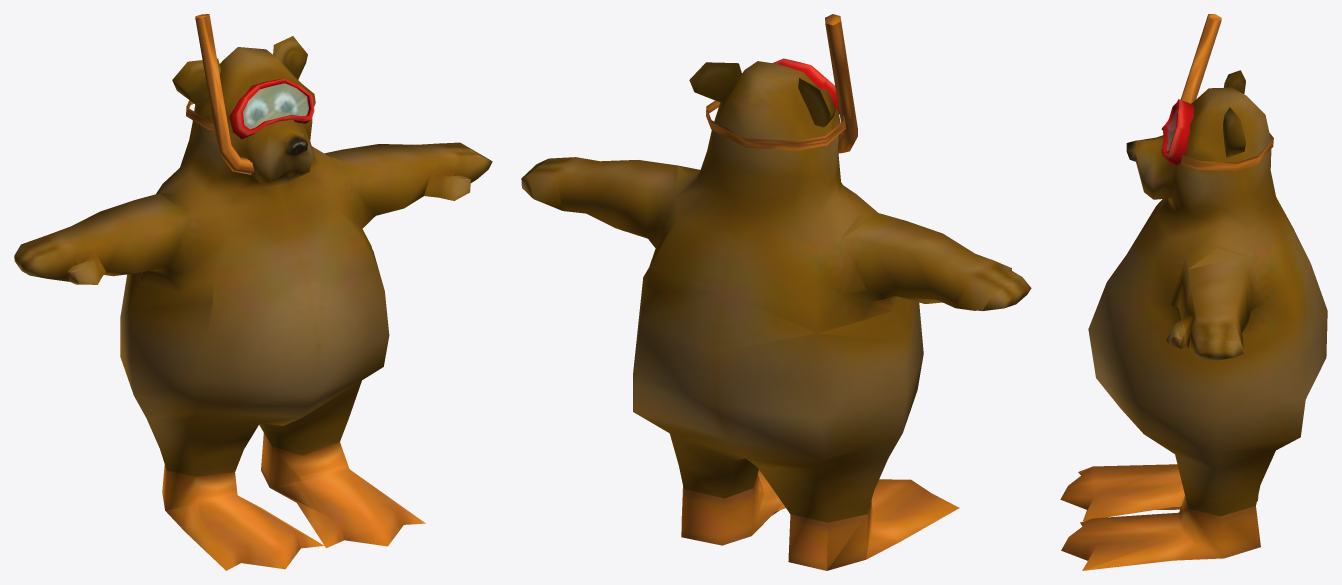
File: bearacuda.glb
3 views of the same model, side by side, from view 1: azimuth 30°, elevation 25°; view 2: azimuth 150°, elevation 25°; view 3: azimuth 270°, elevation 25° (orthographic). The views are drawn at different scales.
Visible parts, largest first — view 1: BearAcuda, Head, transparent2; view 2: BearAcuda, Head; view 3: BearAcuda, Head.
Boxes of the visible parts, x1,y1,x2,y2 form: BearAcuda: [14, 47, 492, 570]; Head: [172, 14, 315, 174]; transparent2: [243, 83, 308, 128]; BearAcuda: [521, 61, 1031, 570]; Head: [689, 14, 857, 153]; BearAcuda: [1060, 87, 1327, 570]; Head: [1161, 14, 1273, 171].
Bounding box in the file's own units: 5.5 × 5.69 × 2.84.
Materials: 3 (3 with a texture image).
